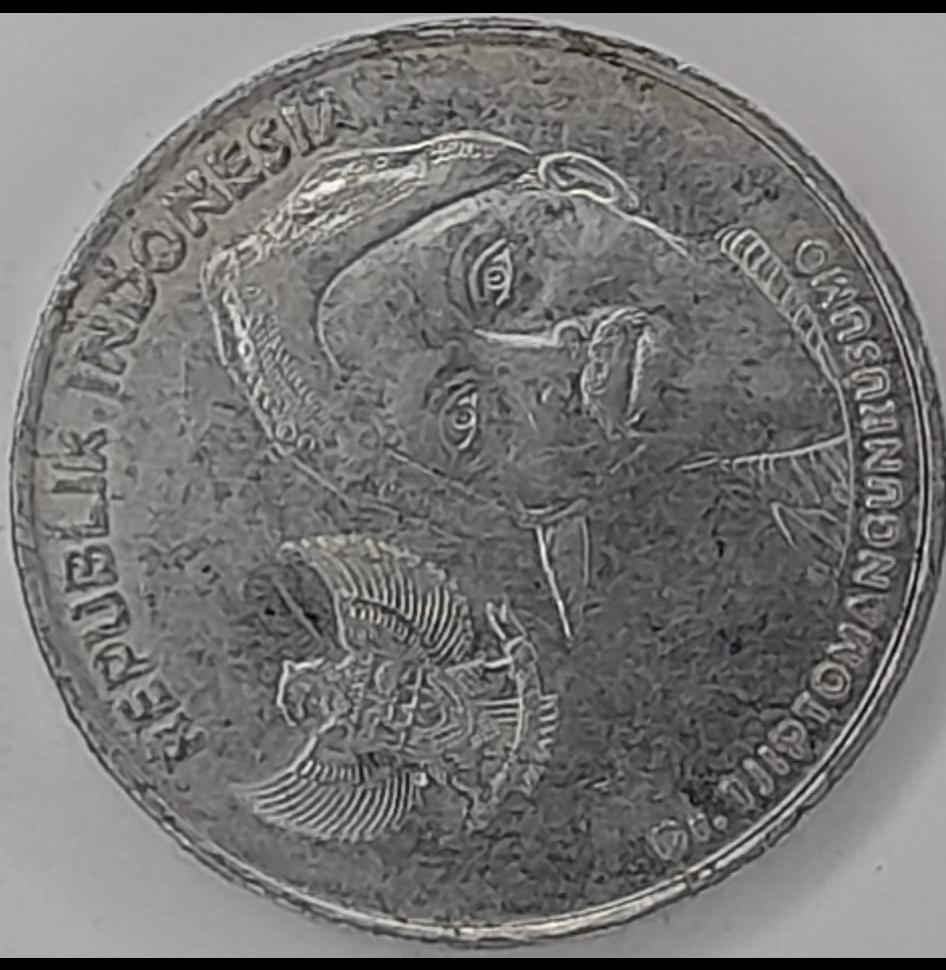coin_200_e2016: (0, 17, 946, 970)
